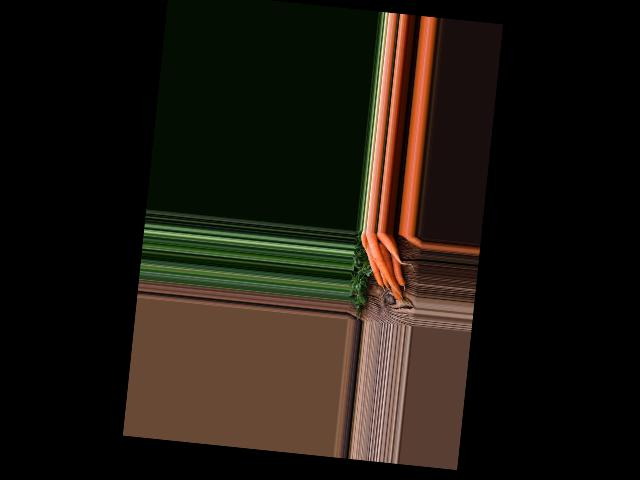carrot: (375, 233, 404, 262)
